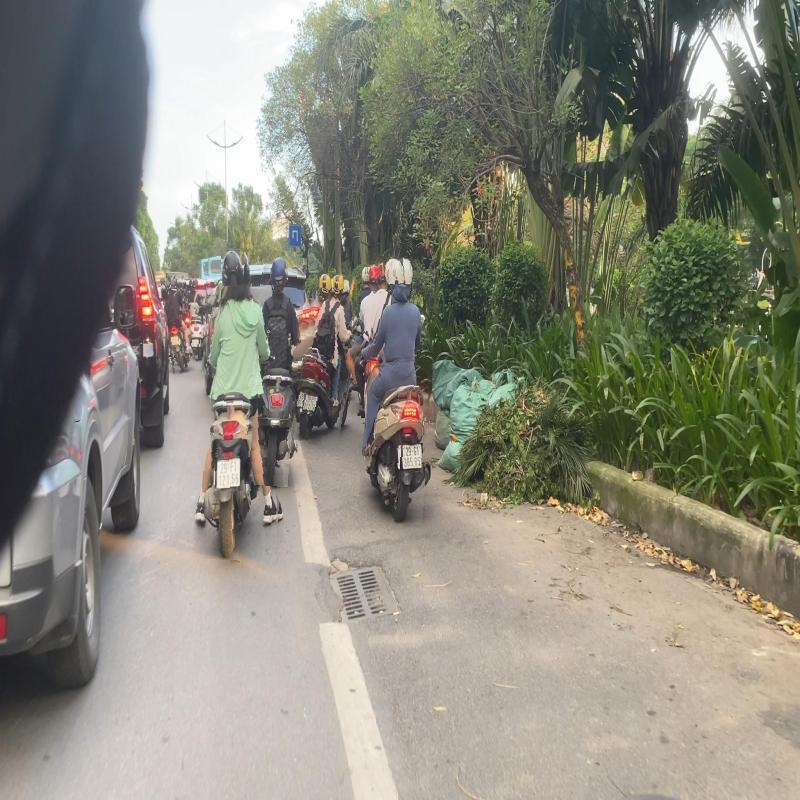helmet: (221, 250, 244, 286), (261, 256, 282, 288), (384, 258, 404, 285), (368, 264, 382, 285), (319, 274, 333, 293), (362, 268, 371, 284), (169, 276, 178, 289), (192, 279, 198, 288)
licenseplate: (215, 456, 244, 491), (400, 443, 423, 471), (302, 392, 319, 414), (170, 336, 179, 347), (191, 338, 200, 348)
motorcyclist: (196, 248, 288, 562), (362, 258, 435, 524), (249, 255, 303, 486), (296, 272, 358, 445), (164, 276, 194, 374), (187, 278, 206, 360)
